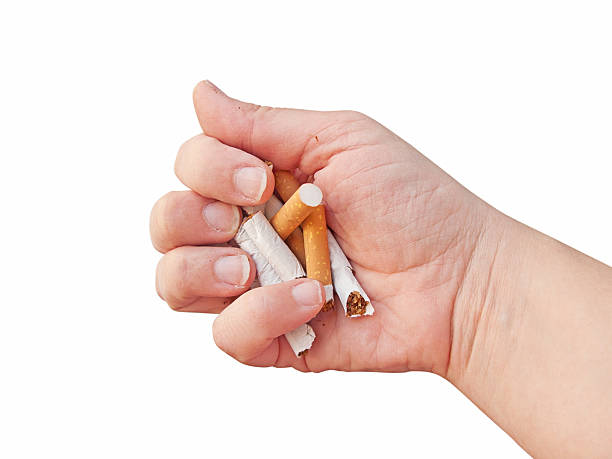cigarette: (327, 226, 377, 320), (243, 208, 305, 282), (302, 200, 334, 313), (233, 223, 285, 287), (271, 181, 325, 239), (285, 322, 318, 357), (272, 167, 300, 204)
